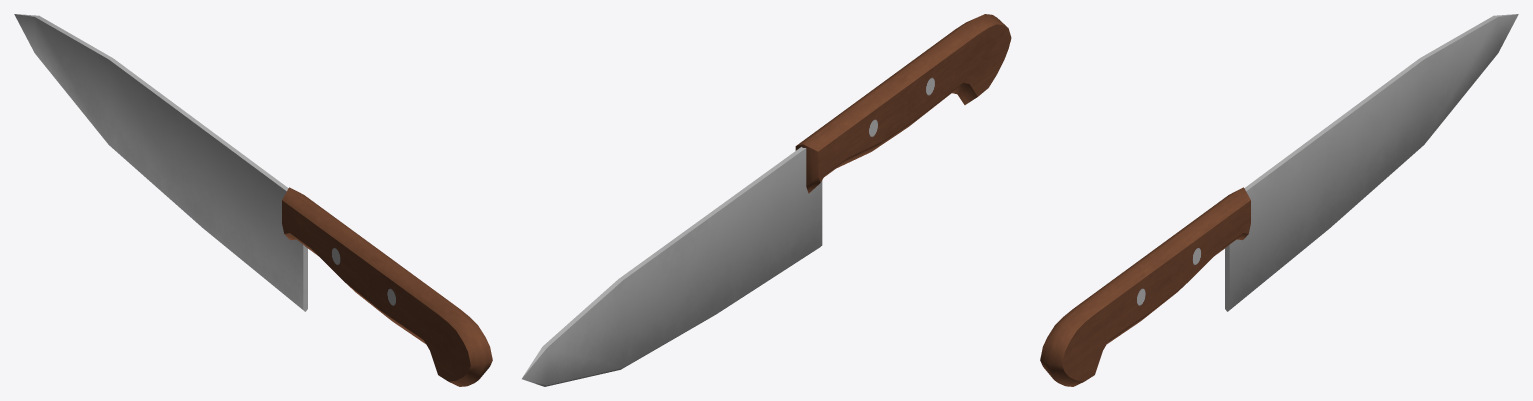
The model's file is Knife.fbx.
3 views of the same model, side by side, from view 1: azimuth 30°, elevation 25°; view 2: azimuth 150°, elevation 25°; view 3: azimuth 330°, elevation 25° (orthographic). The views are drawn at different scales.
Visible parts, largest first — view 1: Knife; view 2: Knife; view 3: Knife.
Part boxes in pixels (left/top/right/bottom): Knife: left=14, top=14, right=492, bottom=386; Knife: left=522, top=14, right=1011, bottom=386; Knife: left=1040, top=14, right=1518, bottom=386.
Bounding box in the file's own units: 2.63 × 12.91 × 97.29.
1 material, 1 textured.
